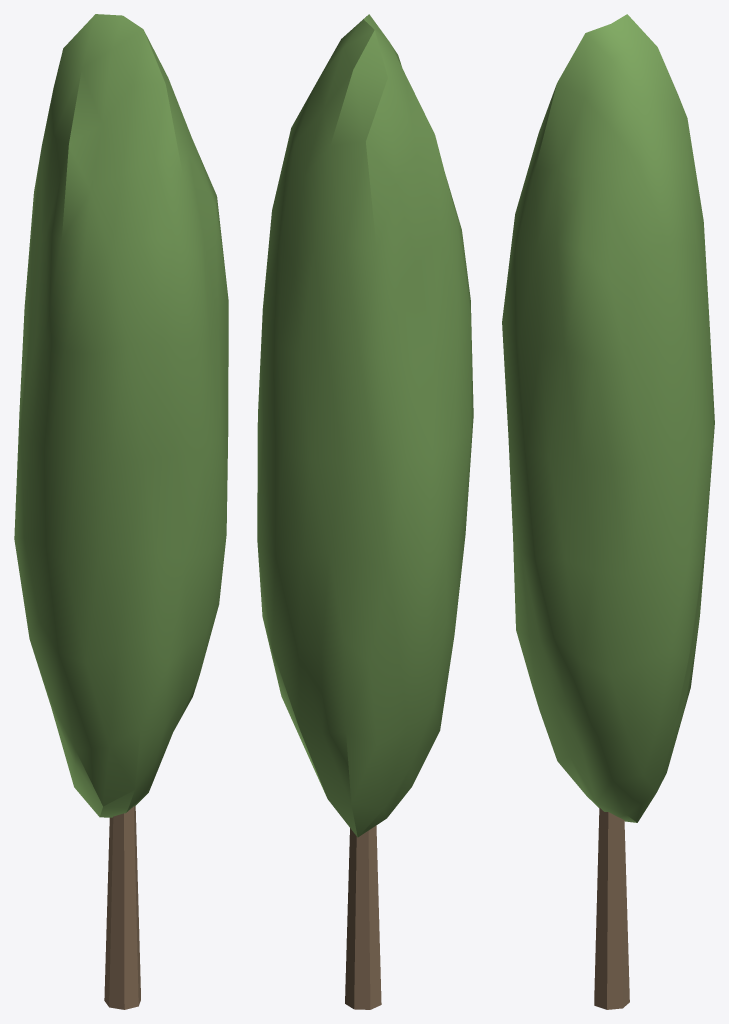
File: tree_poplar.glb
The picture shows the model from 3 angles, left to right: view 1: azimuth 30°, elevation 25°; view 2: azimuth 150°, elevation 25°; view 3: azimuth 270°, elevation 25°; orthographic projection.
Visible parts, largest first — view 1: tree_poplar; view 2: tree_poplar; view 3: tree_poplar.
Part boxes in pixels (<box>): tree_poplar: <box>14,14,228,1009</box>; tree_poplar: <box>257,14,473,1009</box>; tree_poplar: <box>502,14,714,1009</box>.
Size of the model in its own units: 2.46 by 12.67 by 2.5.
